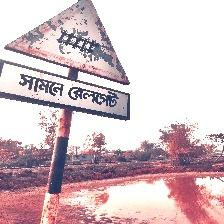Rail-crossing: (0, 0, 131, 121)
